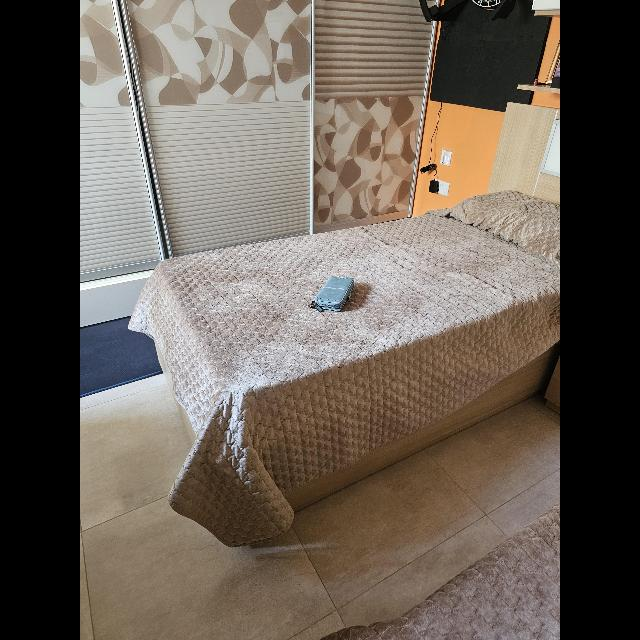Wallet: (312, 275, 356, 311)
